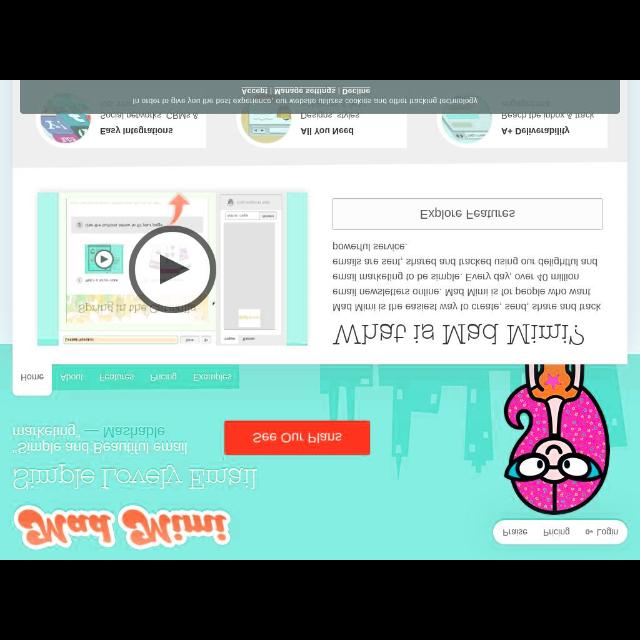icon: (586, 529, 592, 535)
image: (36, 194, 308, 346), (507, 365, 611, 515), (17, 508, 229, 550), (440, 93, 492, 143), (43, 92, 91, 144), (242, 96, 292, 144)
multitab: (14, 365, 242, 395), (496, 518, 628, 544)
text: (333, 244, 601, 312), (333, 322, 584, 348), (14, 466, 260, 490), (13, 422, 188, 454), (132, 96, 482, 104), (500, 98, 596, 122), (420, 205, 514, 219), (252, 431, 342, 445), (100, 110, 200, 118), (503, 124, 569, 136), (274, 86, 336, 96), (100, 126, 174, 134), (302, 127, 354, 137), (193, 372, 231, 382), (299, 112, 357, 118), (150, 370, 178, 382), (61, 371, 85, 384), (98, 373, 136, 381), (502, 527, 528, 537), (342, 87, 372, 95), (541, 529, 569, 537), (22, 372, 44, 382), (242, 87, 268, 95), (596, 528, 618, 536)
textbutton: (332, 198, 604, 230)
